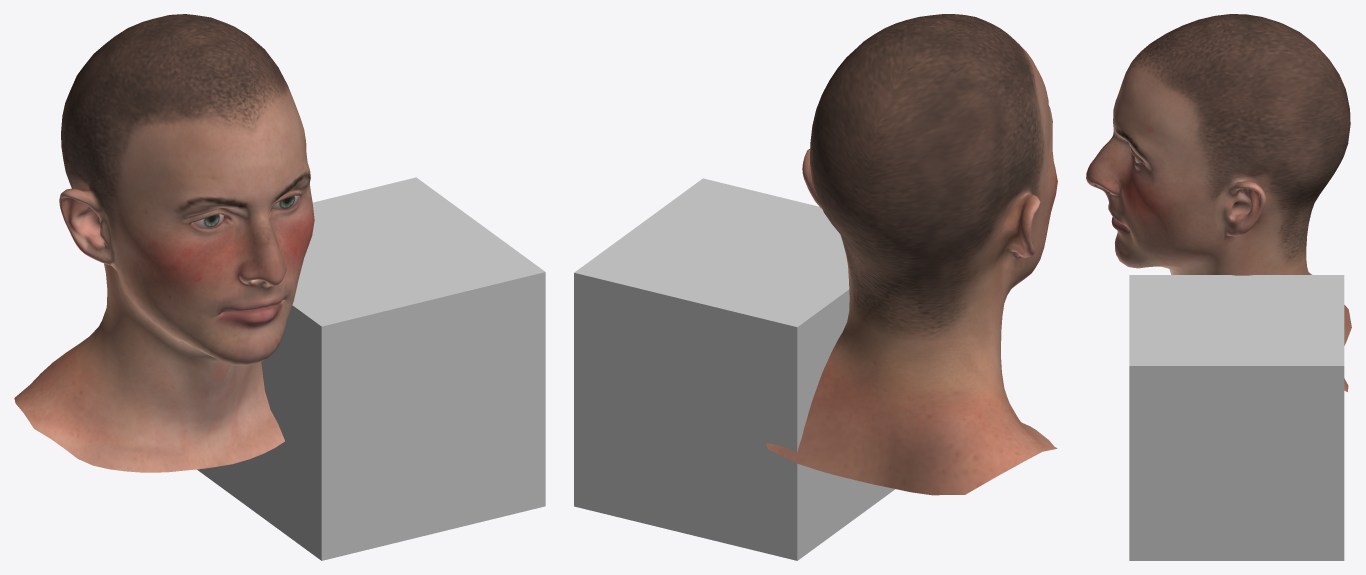
3 views of the same model, side by side, from view 1: azimuth 30°, elevation 25°; view 2: azimuth 150°, elevation 25°; view 3: azimuth 270°, elevation 25° (orthographic). The views are drawn at different scales.
Visible parts, largest first — view 1: Body_0, Cube_2; view 2: Body_0, Cube_2; view 3: Cube_2, Body_0.
Boxes of the visible parts, left/top/right/bottom form: Body_0: left=14, top=14, right=314, bottom=472; Cube_2: left=197, top=177, right=545, bottom=560; Body_0: left=766, top=14, right=1057, bottom=495; Cube_2: left=574, top=178, right=895, bottom=560; Cube_2: left=1129, top=275, right=1344, bottom=560; Body_0: left=1086, top=14, right=1351, bottom=391.
Size of the model in its own units: 3.87 by 4.29 by 2.47.
2 materials, 1 textured.
